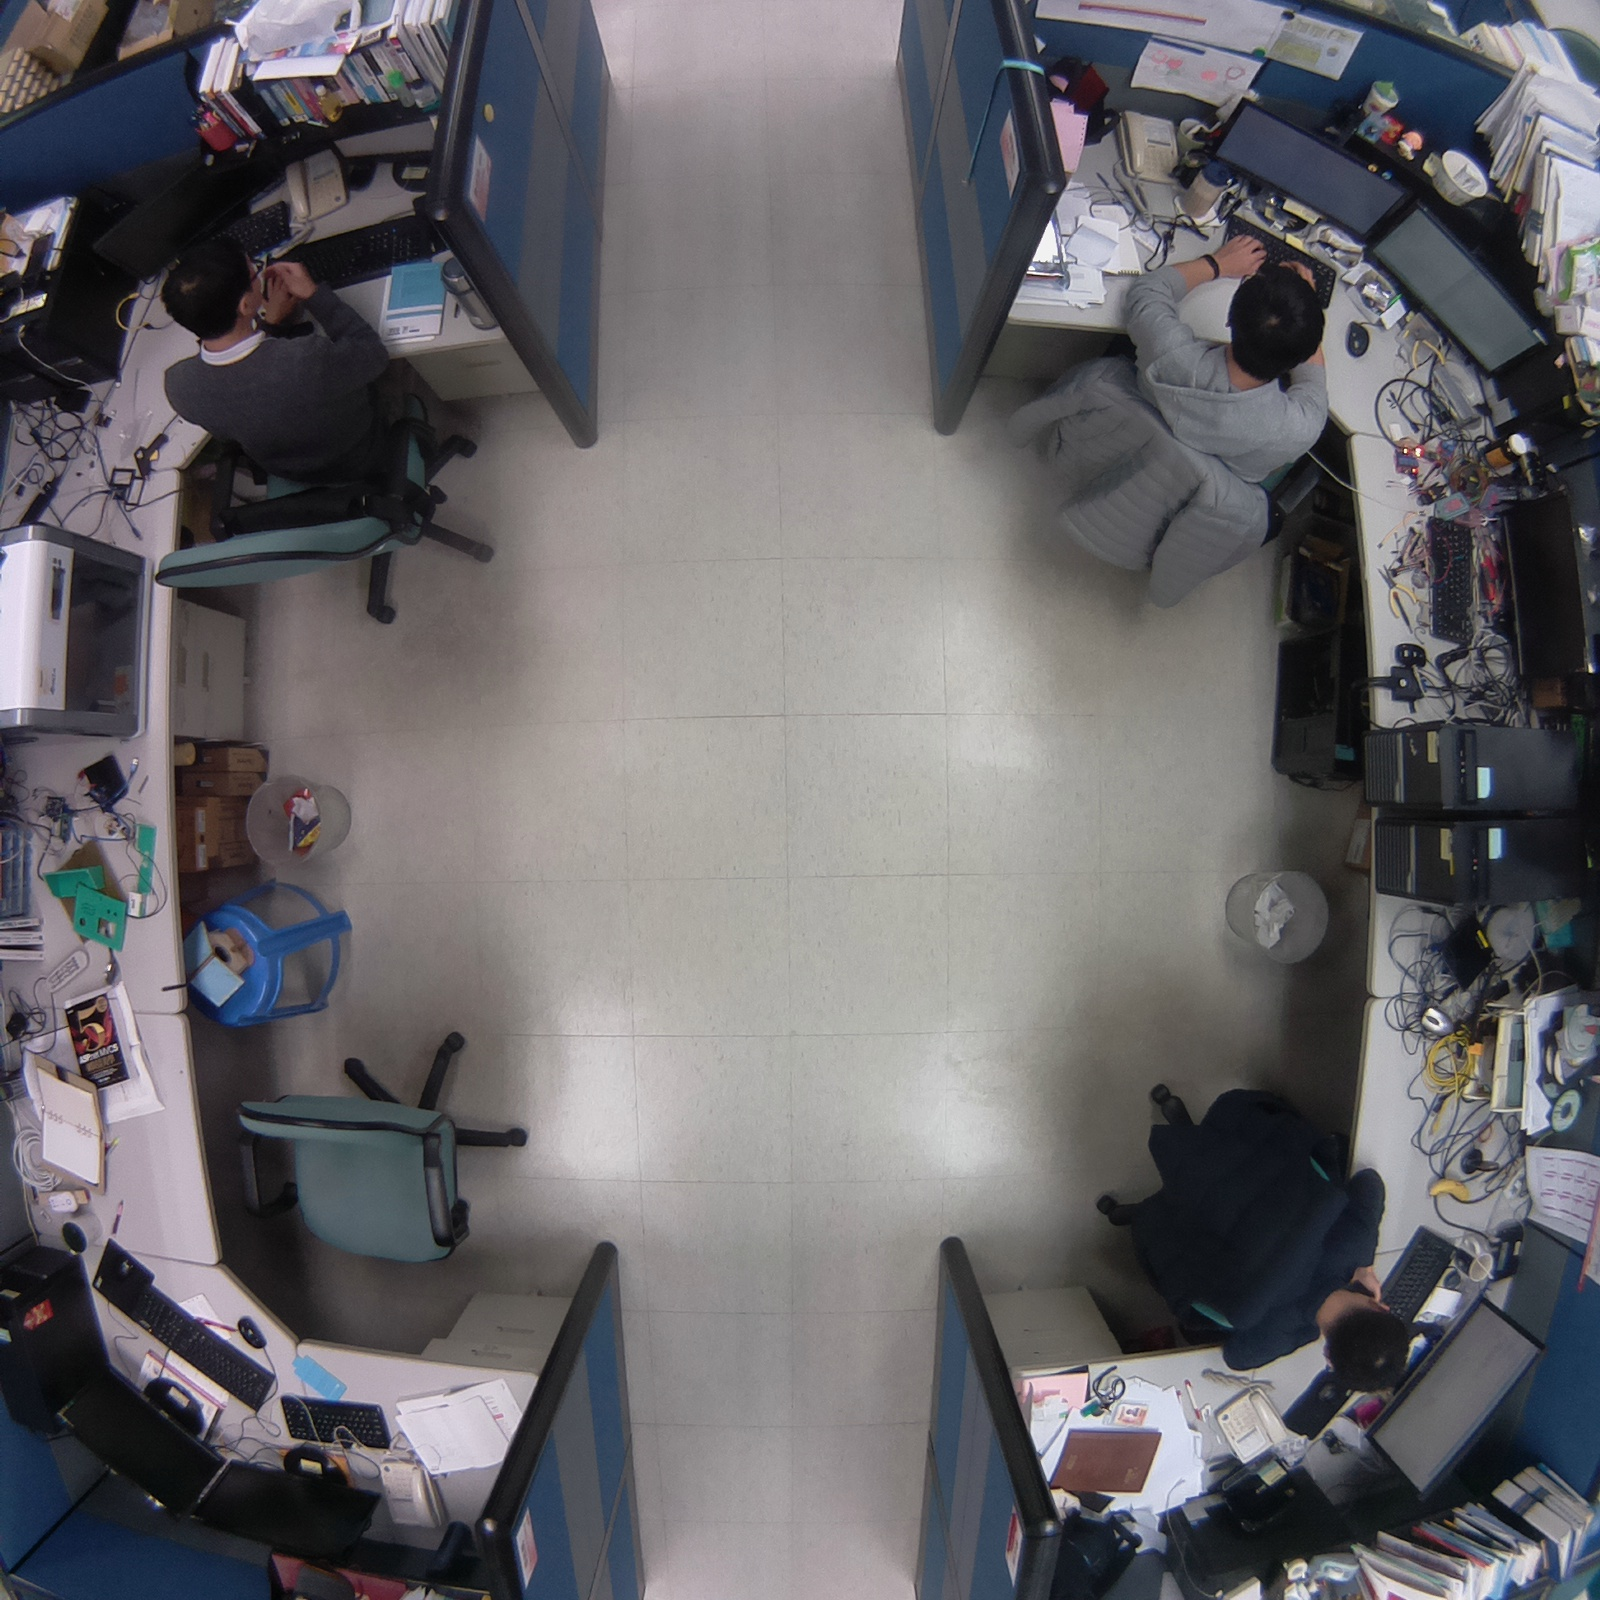chair: (222, 1009, 563, 1291)
head: (1223, 257, 1332, 385), (153, 234, 272, 344), (1317, 1276, 1421, 1400)
sitting: (132, 232, 509, 640), (986, 232, 1358, 629), (1068, 1058, 1435, 1406)
